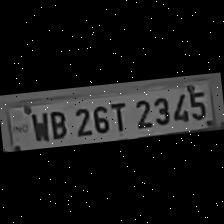2: (68, 103, 92, 136), (130, 95, 152, 129)
3: (150, 93, 170, 127)
4: (168, 89, 188, 123)
5: (184, 86, 207, 120)
6: (88, 100, 111, 134)
B: (46, 106, 68, 140)
T: (108, 98, 131, 132)
W: (28, 107, 50, 141)
